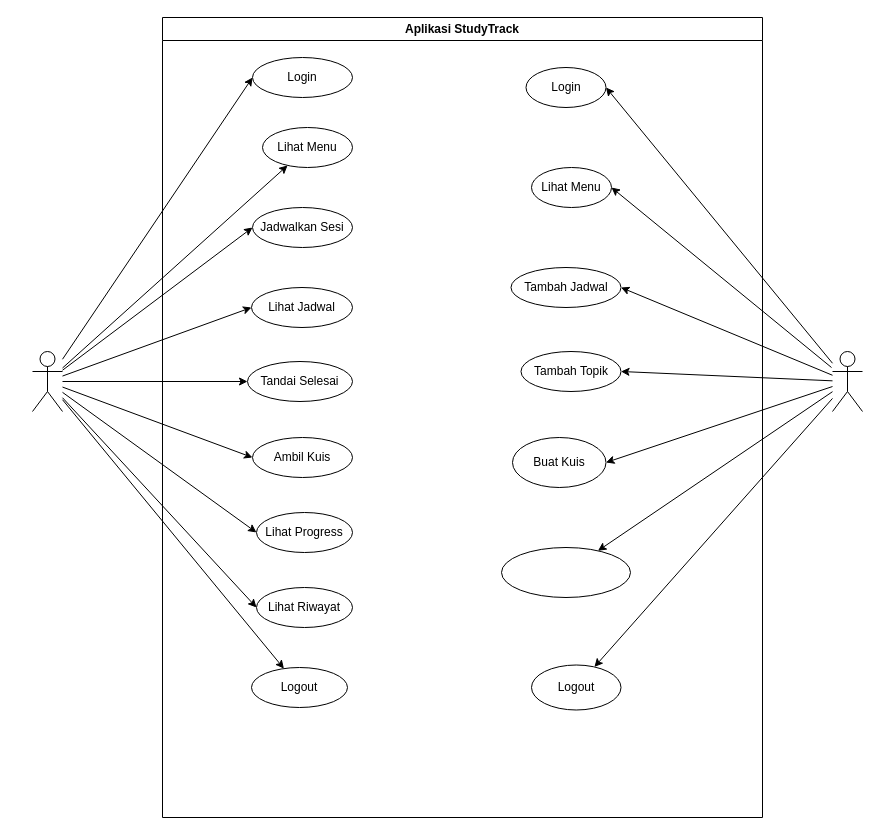
Image size: 882x835. Some labels were removed from this diagram. The shapes that lost their labels are listed below. From the top down, each one's centre as x and y in pixels, then its label:
At pixel 47 381: "Mahasiswa".
At pixel 847 381: "Dosen".
At pixel 565 572: "Lihat Semua Jadwal".
